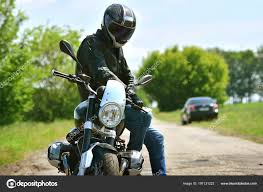with_helmet: (42, 0, 173, 175)
